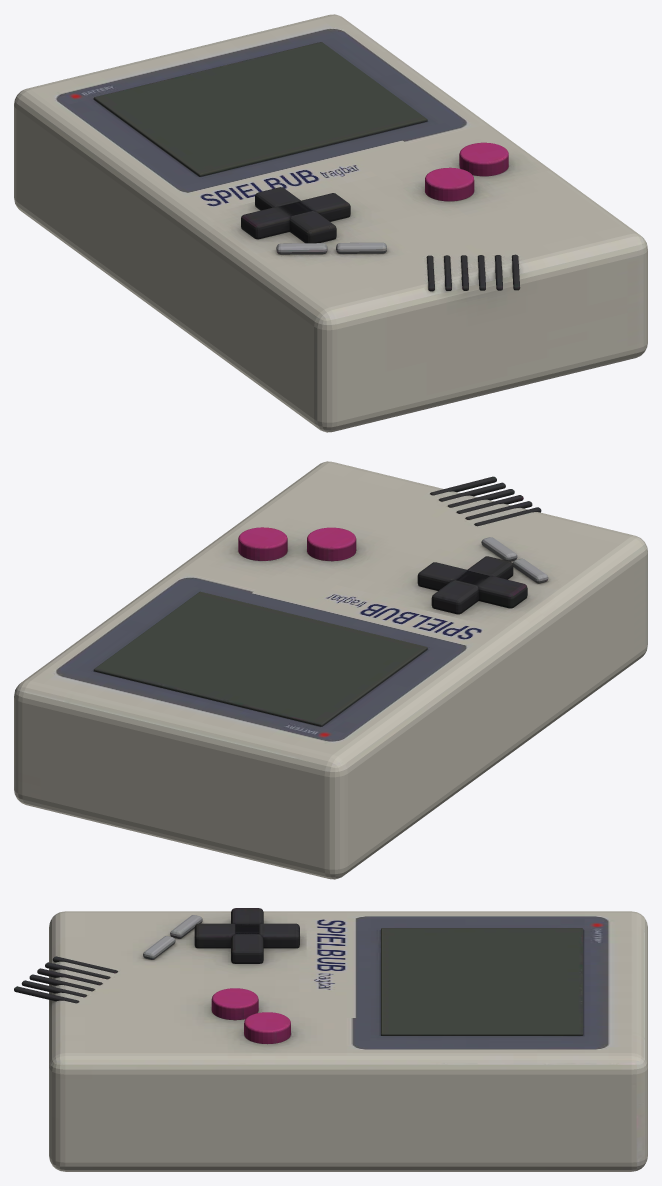
File: gameboy.glb
3 views of the same model, one above another, from view 1: azimuth 30°, elevation 25°; view 2: azimuth 150°, elevation 25°; view 3: azimuth 270°, elevation 25° (orthographic). The views are drawn at different scales.
Visible parts, largest first — view 1: body; view 2: body; view 3: body.
Boxes of the visible parts, x1,y1,x2,y2 form: body: (14,14,647,432); body: (14,461,647,879); body: (14,908,647,1171).
Size of the model in its own units: 0.09 by 0.0355 by 0.1566.
Materials: 1 (1 with a texture image).
